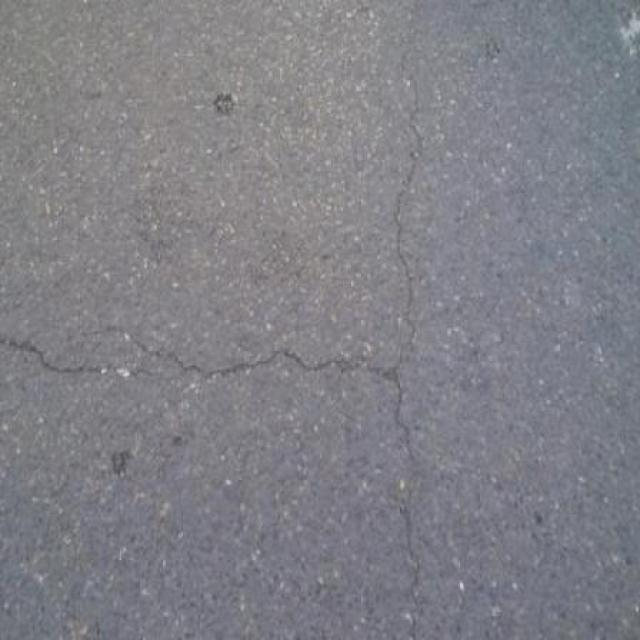Crack: (71, 45, 421, 638), (0, 343, 159, 378)
